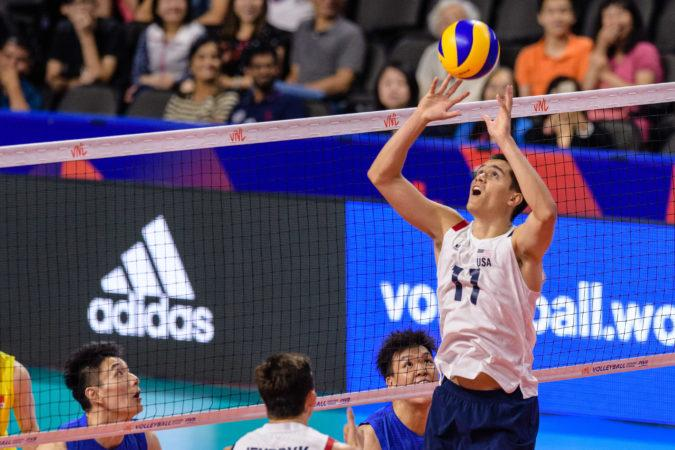ballon_volley: (437, 18, 501, 82)
